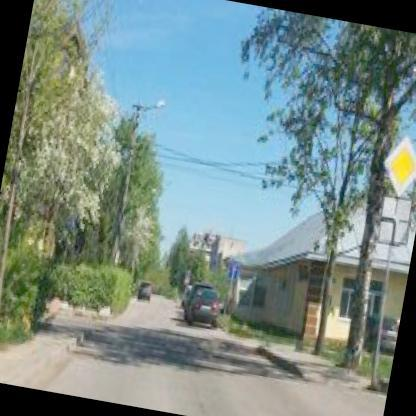road_sign: (385, 138, 416, 197), (377, 197, 409, 245), (228, 259, 242, 283)
